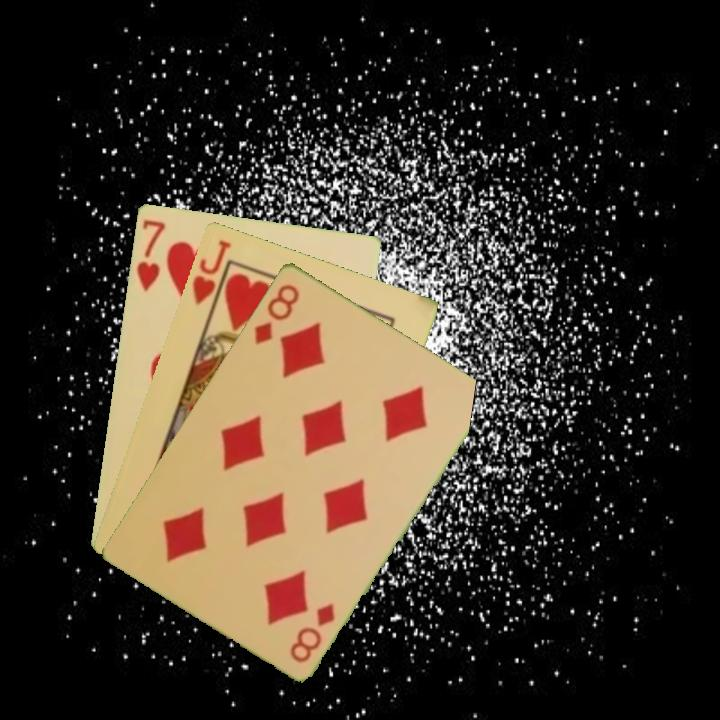7h: (132, 216, 168, 294)
8d: (250, 279, 303, 348), (285, 599, 338, 666)
Jh: (188, 235, 234, 319)
